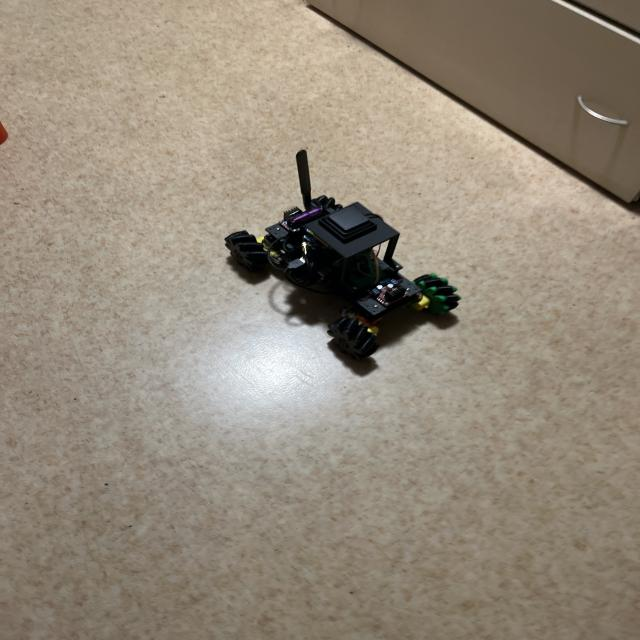robot: (225, 150, 461, 358)
